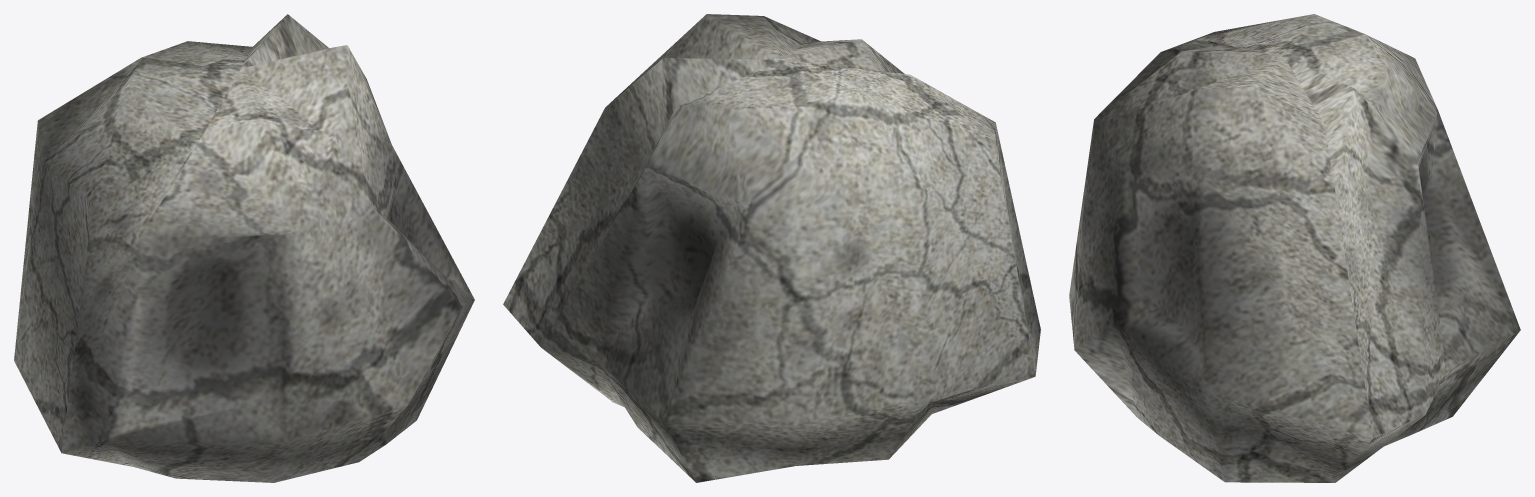
The model's file is Asteroid.fbx.
3 views of the same model, side by side, from view 1: azimuth 30°, elevation 25°; view 2: azimuth 150°, elevation 25°; view 3: azimuth 270°, elevation 25° (orthographic). The views are drawn at different scales.
Parts seen in each view (by area): view 1: pSphere1; view 2: pSphere1; view 3: pSphere1.
Boxes of the visible parts, x1=… form: pSphere1: x1=14, y1=14, x2=474, y2=482; pSphere1: x1=503, y1=14, x2=1040, y2=482; pSphere1: x1=1069, y1=14, x2=1520, y2=482.
Bounding box in the file's own units: 2.2 × 1.93 × 1.93.
1 material, 1 textured.
